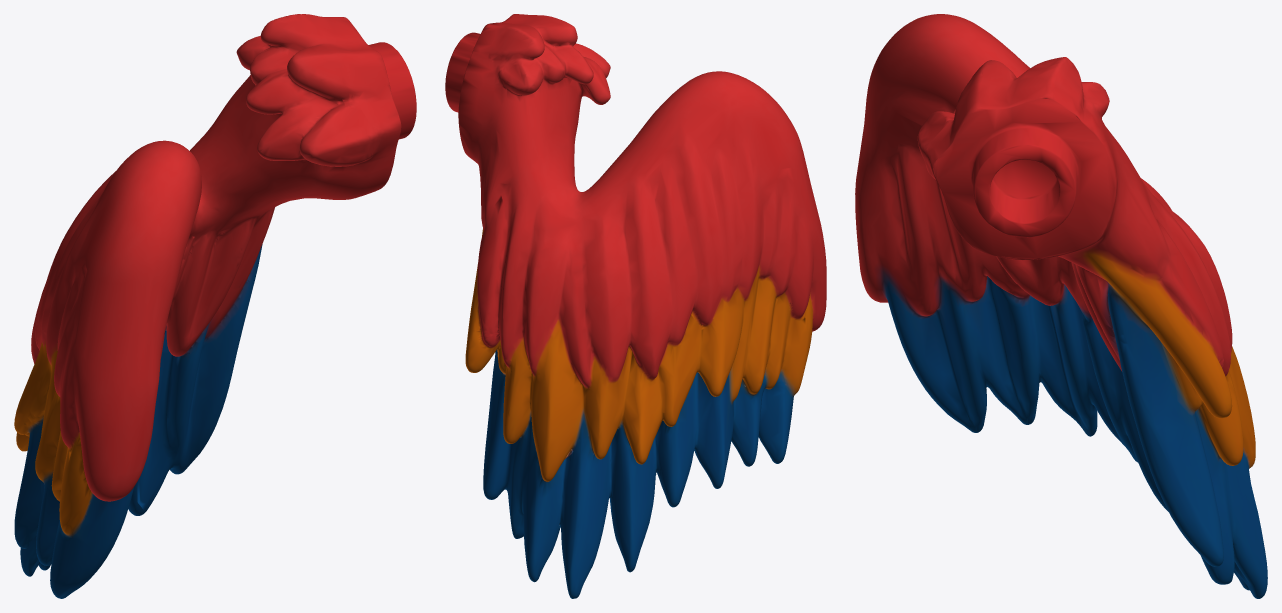
The model's file is Bras_Perroquet_rg.glb.
3 renders of one model, left to right at view 1: azimuth 30°, elevation 25°; view 2: azimuth 150°, elevation 25°; view 3: azimuth 270°, elevation 25°, orthographic. The views are drawn at different scales.
Visible parts, largest first — view 1: Bras_Perroquet_rg; view 2: Bras_Perroquet_rg; view 3: Bras_Perroquet_rg.
Boxes of the visible parts, x1,y1,x2,y2 form: Bras_Perroquet_rg: (14, 14, 416, 598); Bras_Perroquet_rg: (445, 14, 826, 598); Bras_Perroquet_rg: (855, 14, 1267, 598).
Size of the model in its own units: 3.74 by 5.57 by 3.43.
